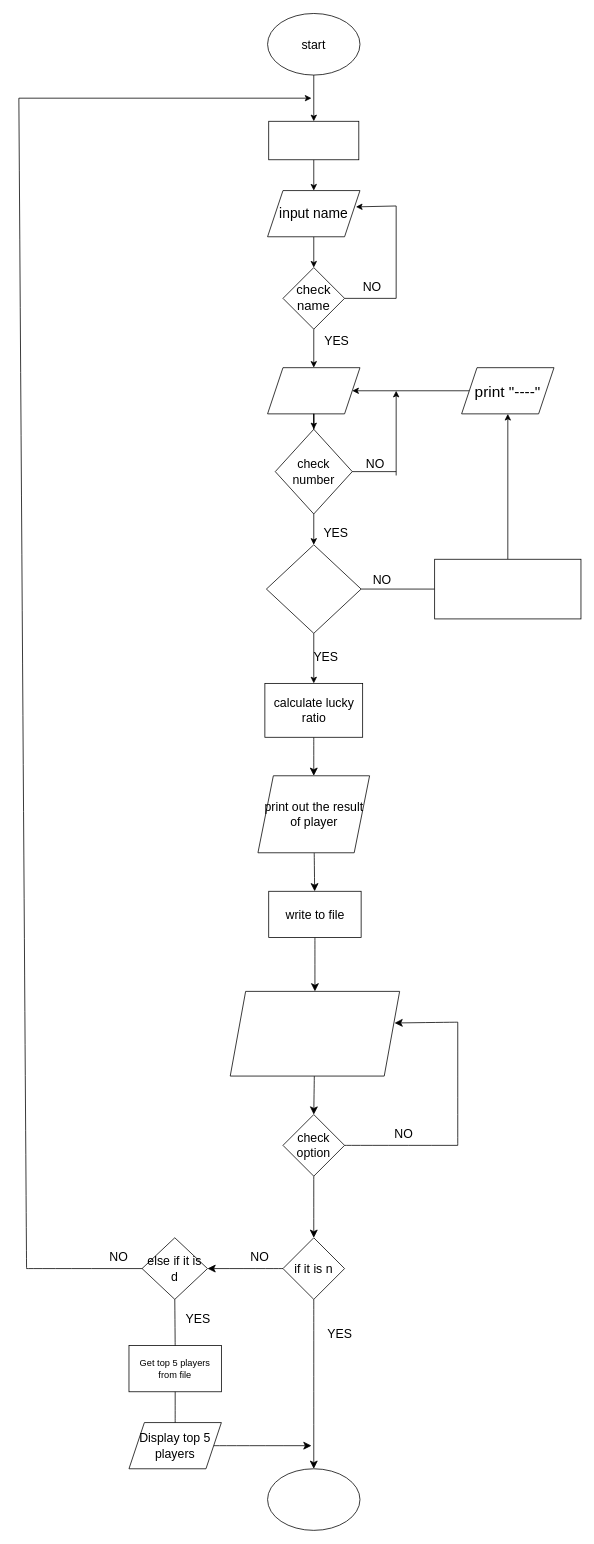
This 594x1544 diagram has some shape labels left out. The shapes that lost their labels are listed below. From the top down, each one's box as (x1, y1, x2, y2) in pixels, then its label:
(268, 121, 359, 160): generate a random number
(267, 367, 360, 414): input number
(266, 544, 361, 633): compare 2 number
(434, 558, 581, 619): compare each level of 4-digits number with number
(229, 991, 400, 1076): do you want to continue, see top 5 players or exit game
(267, 1468, 360, 1530): end
